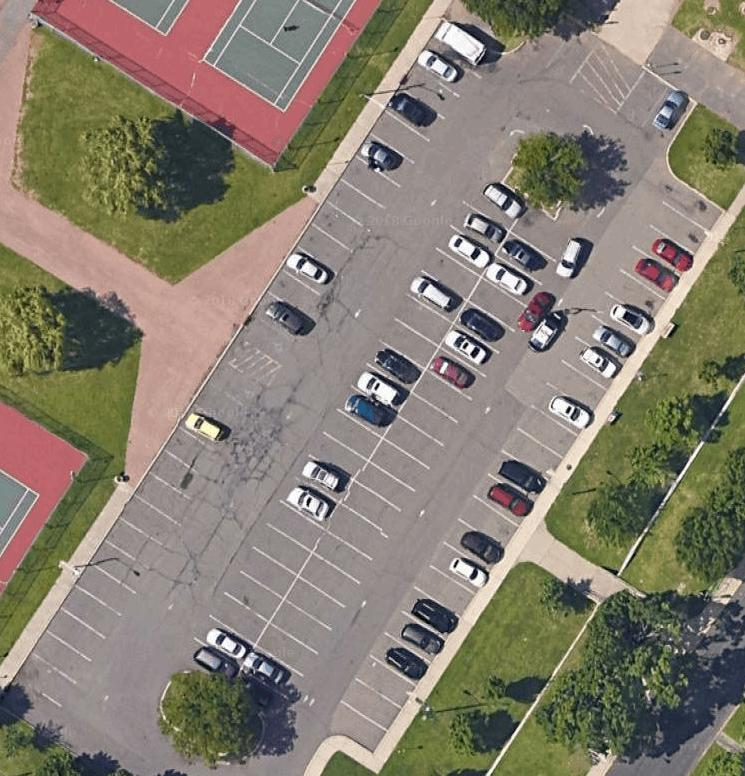parkingspot: (320, 177, 726, 756), (230, 201, 579, 723), (178, 170, 529, 686), (0, 356, 274, 738), (235, 16, 501, 370), (614, 67, 699, 149), (515, 14, 603, 86)
